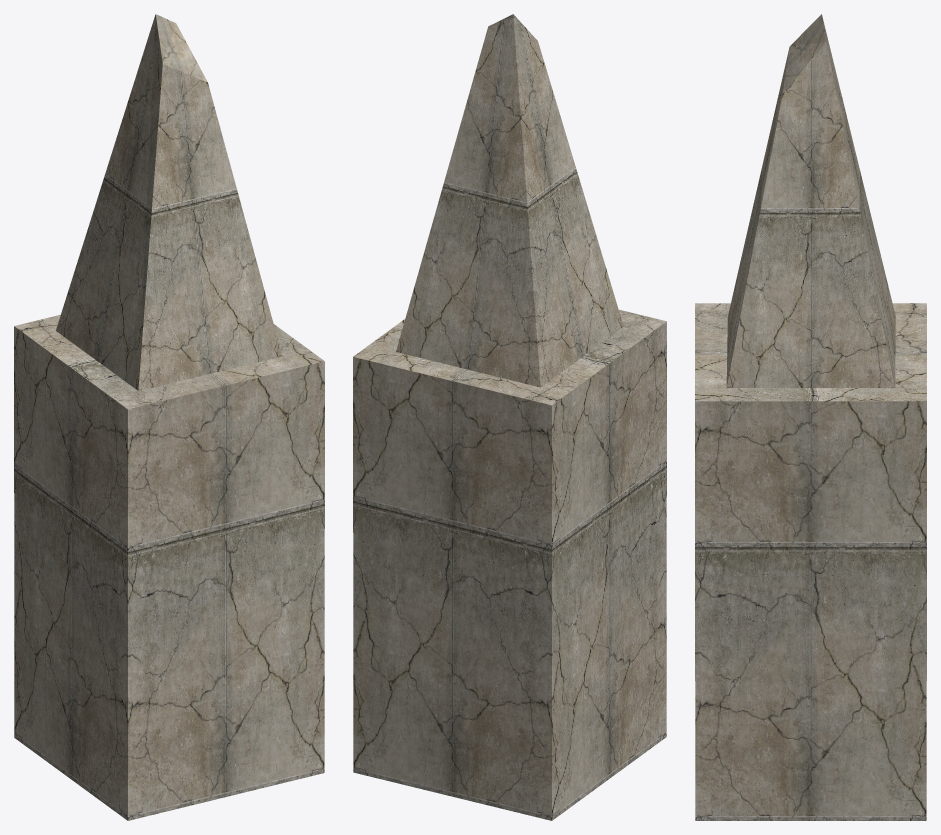
The model's file is poi_all_monolith_s01_l2.fbx.
The picture shows the model from 3 angles, left to right: view 1: azimuth 30°, elevation 25°; view 2: azimuth 150°, elevation 25°; view 3: azimuth 270°, elevation 25°; orthographic projection.
Parts seen in each view (by area): view 1: mesh_node; view 2: mesh_node; view 3: mesh_node.
Boxes of the visible parts, x1,y1,x2,y2 form: mesh_node: (14, 14, 324, 820); mesh_node: (353, 14, 666, 820); mesh_node: (695, 14, 926, 820).
Size of the model in its own units: 10.02 by 35.93 by 10.02.
